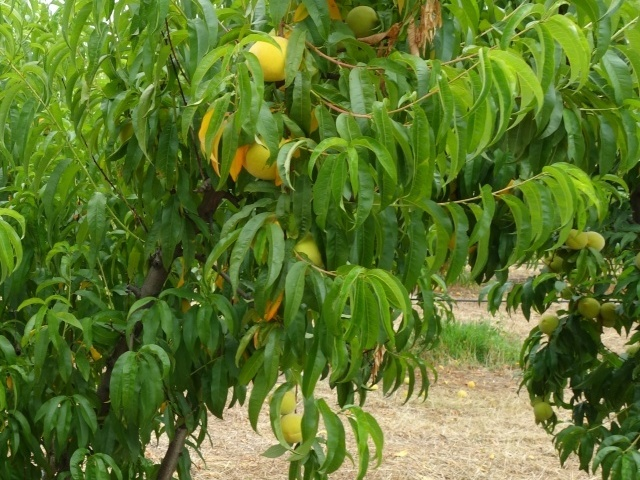peach: (246, 32, 301, 86), (241, 131, 282, 189), (343, 2, 383, 39), (270, 408, 307, 444), (269, 383, 299, 417), (574, 294, 601, 322), (564, 224, 590, 251), (586, 226, 609, 254), (538, 311, 561, 337), (598, 299, 622, 323), (532, 399, 555, 424)
